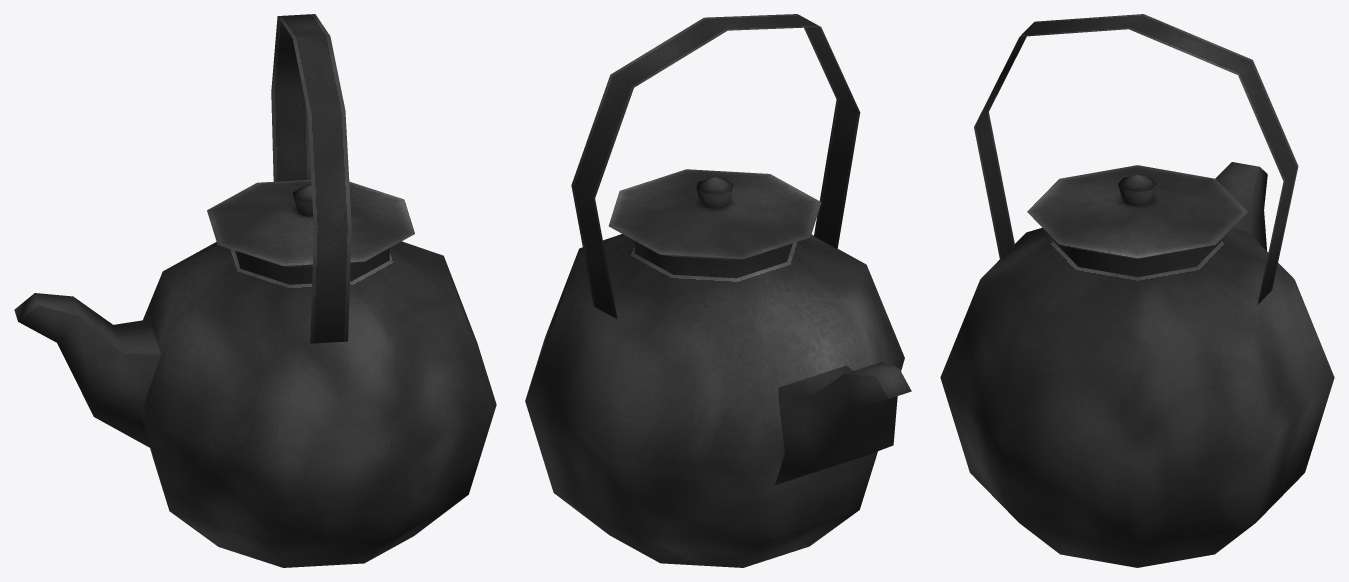
File: teapot.glb
3 renders of one model, left to right at view 1: azimuth 30°, elevation 25°; view 2: azimuth 150°, elevation 25°; view 3: azimuth 270°, elevation 25°, orthographic. The views are drawn at different scales.
Parts seen in each view (by area): view 1: teapot; view 2: teapot; view 3: teapot.
Boxes of the visible parts, <box> form: teapot: <box>14,14,496,567</box>; teapot: <box>525,14,911,567</box>; teapot: <box>940,14,1334,567</box>.
Bounding box in the file's own units: 0.4915 × 0.5598 × 0.4.
1 material, 1 textured.
